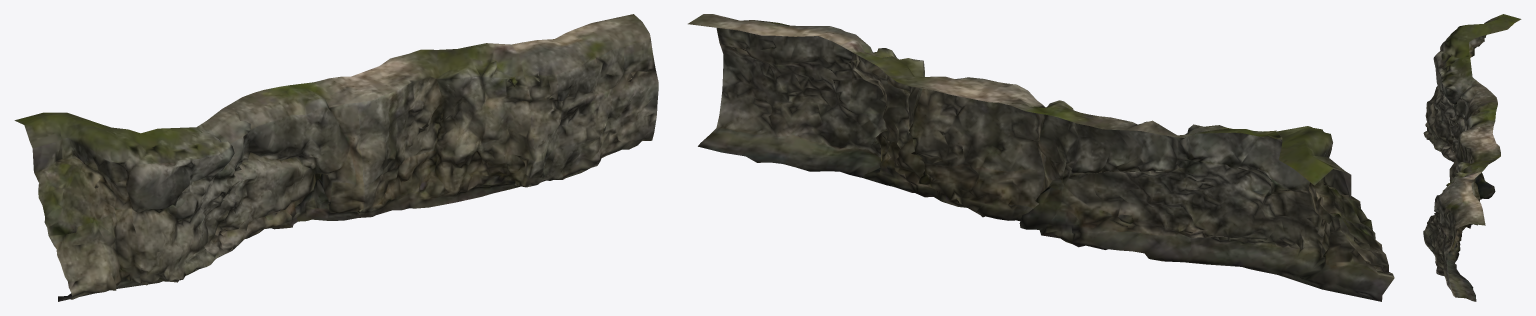
The model's file is cliff_lo.gltf.
3 renders of one model, left to right at view 1: azimuth 30°, elevation 25°; view 2: azimuth 150°, elevation 25°; view 3: azimuth 270°, elevation 25°, orthographic. The views are drawn at different scales.
Visible parts, largest first — view 1: coastal_cliff_02_LOD0; view 2: coastal_cliff_02_LOD0; view 3: coastal_cliff_02_LOD0.
Part boxes in pixels (x1,y1,x2,y2): coastal_cliff_02_LOD0: (14,14,658,301); coastal_cliff_02_LOD0: (688,14,1394,301); coastal_cliff_02_LOD0: (1423,14,1521,301).
Bounding box in the file's own units: 40.93 × 10 × 8.6.
1 material, 1 textured.
